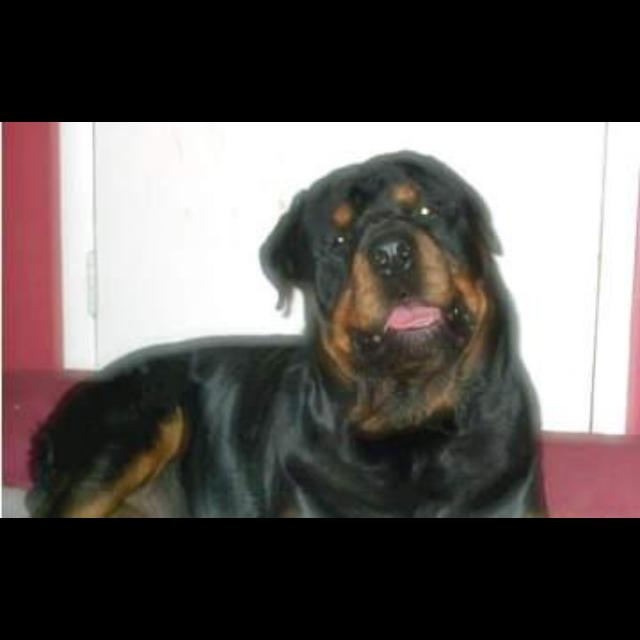rottweiler: (24, 149, 550, 518)
